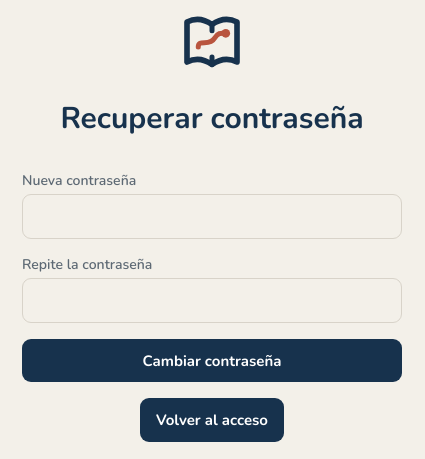
Test case: changes the password and removes the reset credential from the address
This screenshot has width=425, height=459.
Type "Password-123" into the password field labelled "Nueva contraseña" at (212, 217), box x1=22 y1=194 x2=402 y2=239
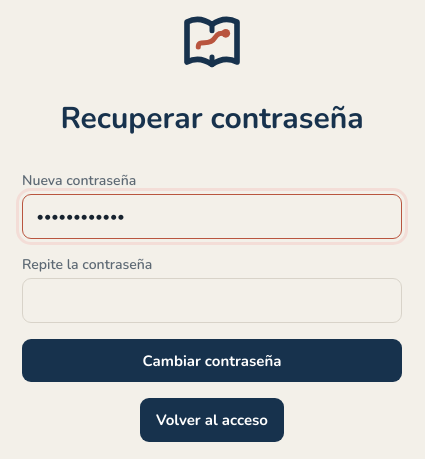
Type "Password-123" into the password field labelled "Repite la contraseña" at (212, 301), box x1=22 y1=278 x2=402 y2=323
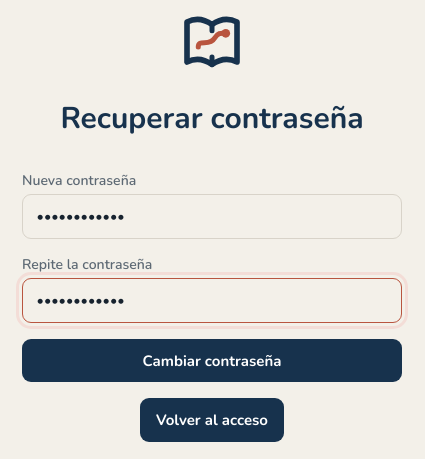
Click the button "Cambiar contraseña" at (212, 360), box x1=22 y1=339 x2=402 y2=382
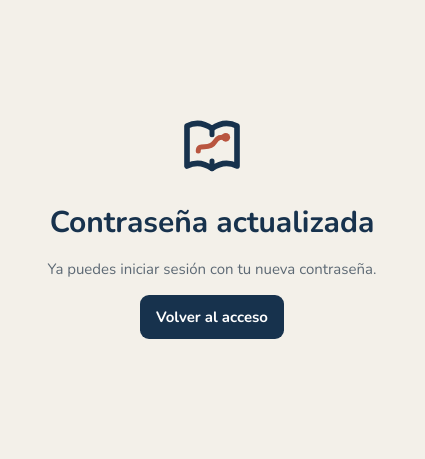
Result: the heading "Contraseña actualizada" is shown at x1=50 y1=202 x2=374 y2=242
